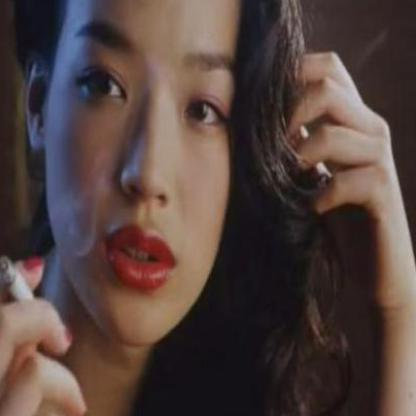cigarette: (0, 256, 39, 306)
person: (0, 0, 318, 407)
